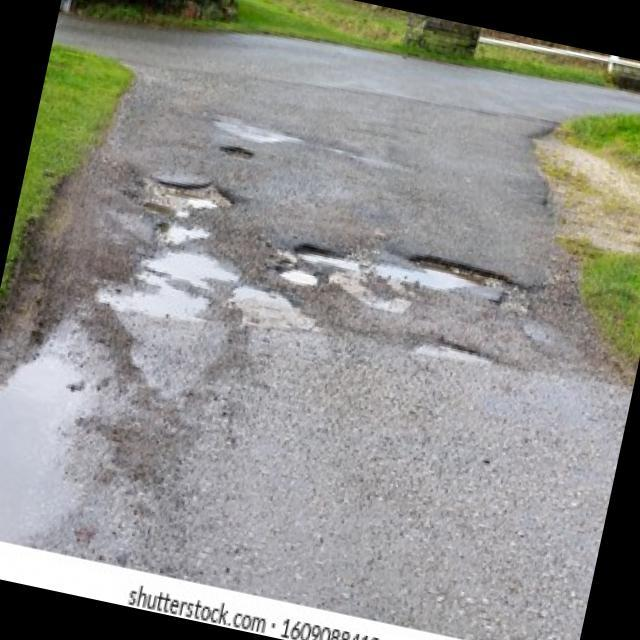Pothole: (290, 227, 522, 307), (123, 163, 240, 227), (406, 332, 499, 374), (272, 258, 322, 294), (218, 138, 256, 162)
